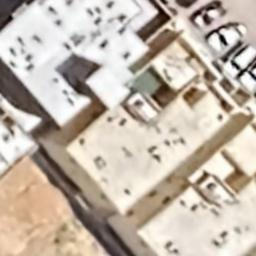SUV: (224, 43, 256, 77)
sedan: (207, 20, 247, 50), (192, 2, 228, 30)
